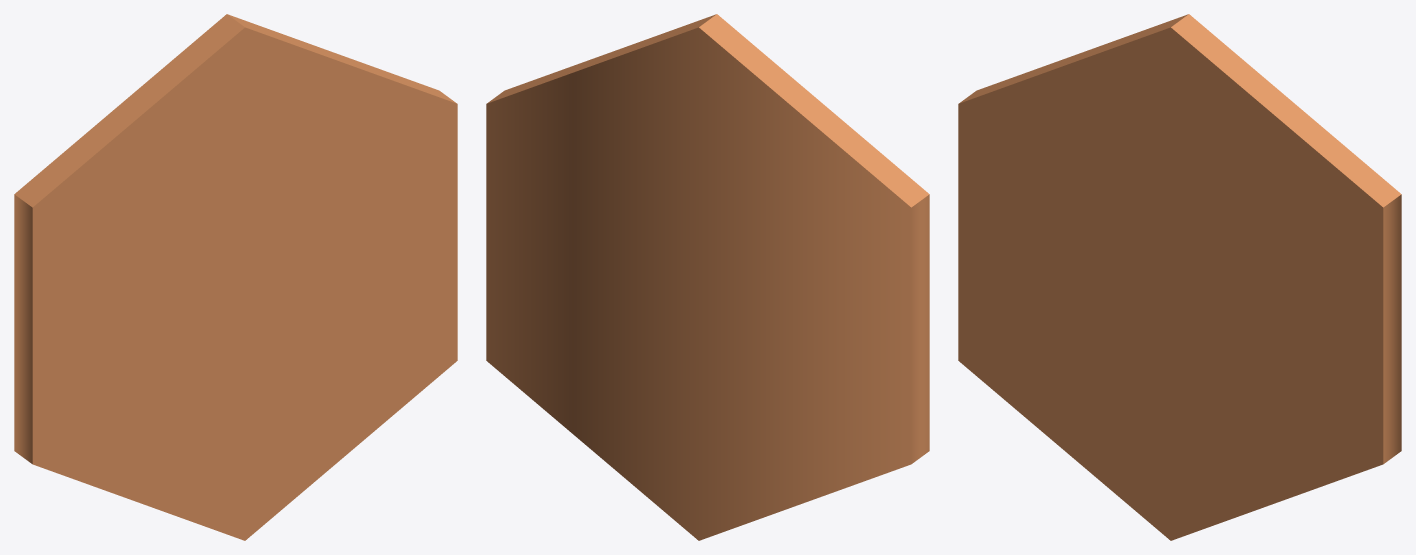
File: top.obj
The picture shows the model from 3 angles, left to right: view 1: azimuth 30°, elevation 25°; view 2: azimuth 150°, elevation 25°; view 3: azimuth 330°, elevation 25°; orthographic projection.
Parts seen in each view (by area): view 1: tableRound.000_tableRound.005; view 2: tableRound.000_tableRound.005; view 3: tableRound.000_tableRound.005.
Part boxes in pixels (left/top/right/bottom): tableRound.000_tableRound.005: left=14, top=14, right=457, bottom=540; tableRound.000_tableRound.005: left=486, top=14, right=929, bottom=540; tableRound.000_tableRound.005: left=958, top=14, right=1401, bottom=540.
Bounding box in the file's own units: 0.6928 × 0.8 × 0.0516.
